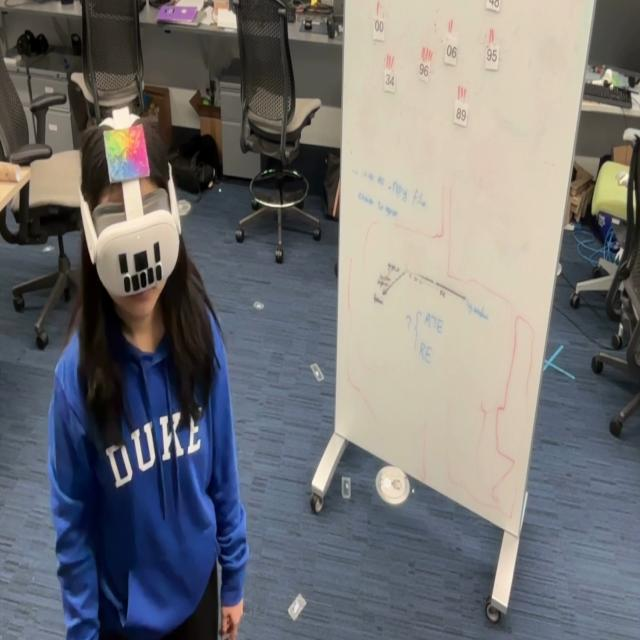Headset: (79, 124, 182, 298)
Marker: (105, 123, 149, 181)
